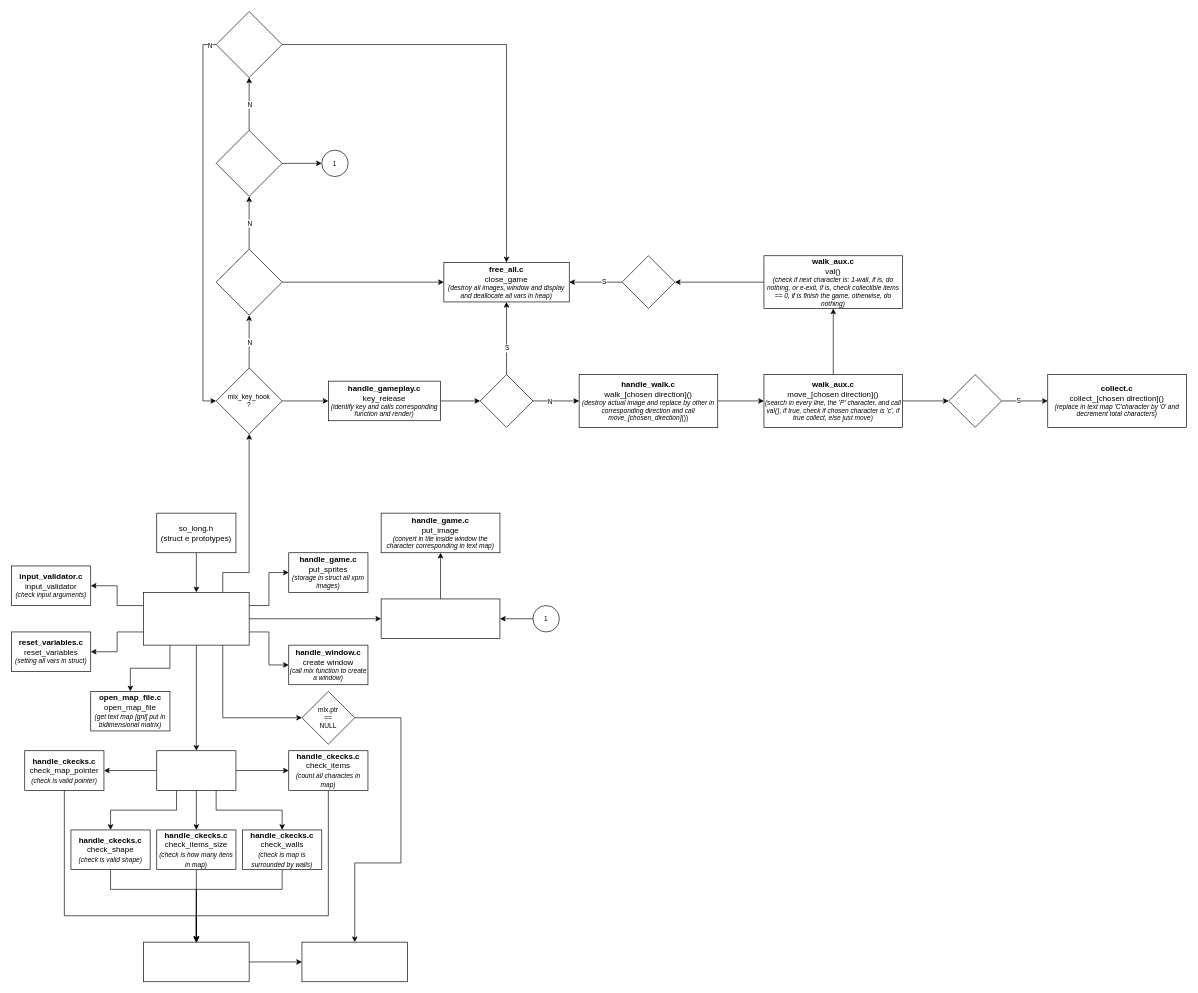
Some shapes in this 1198 by 993 pixel diagram are drawn without their labels. Here are the shapes that lost their labels. From the top down, the centre of each, then its label:
At pixel 248 44: "(mlx_loop) close_game ?".
At pixel 248 163: "mlx_expose_hook ?".
At pixel 248 281: "mlx_hook ?".
At pixel 648 282: "finish ?".
At pixel 506 400: "ESC?".
At pixel 975 400: "'C' ?".
At pixel 196 618: "so_long.c main".
At pixel 440 618: "handle_game.c render (identify wich characters in text map and call put_image())".
At pixel 196 770: "tracker.c tracker (check every element in matrix)".
At pixel 196 961: "exception_manager.c [corresponding error] (show error mensage)".
At pixel 354 961: "free_all.c free_matrix (free matrix in heap memory)".
